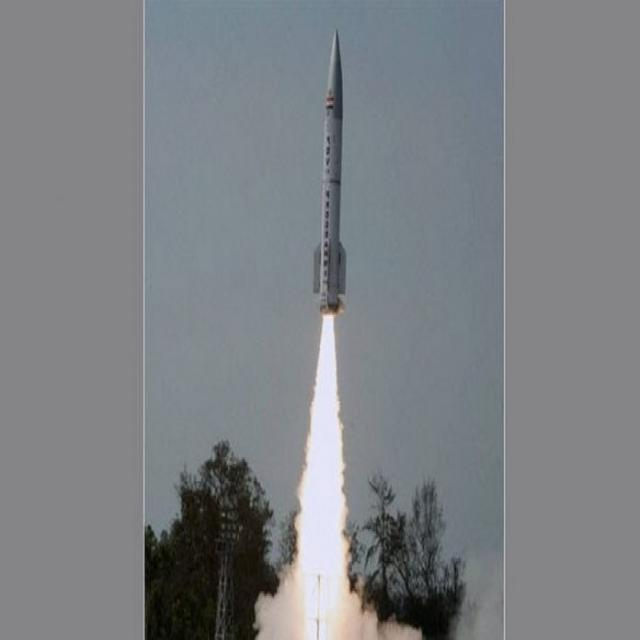missile: (309, 30, 361, 324)
